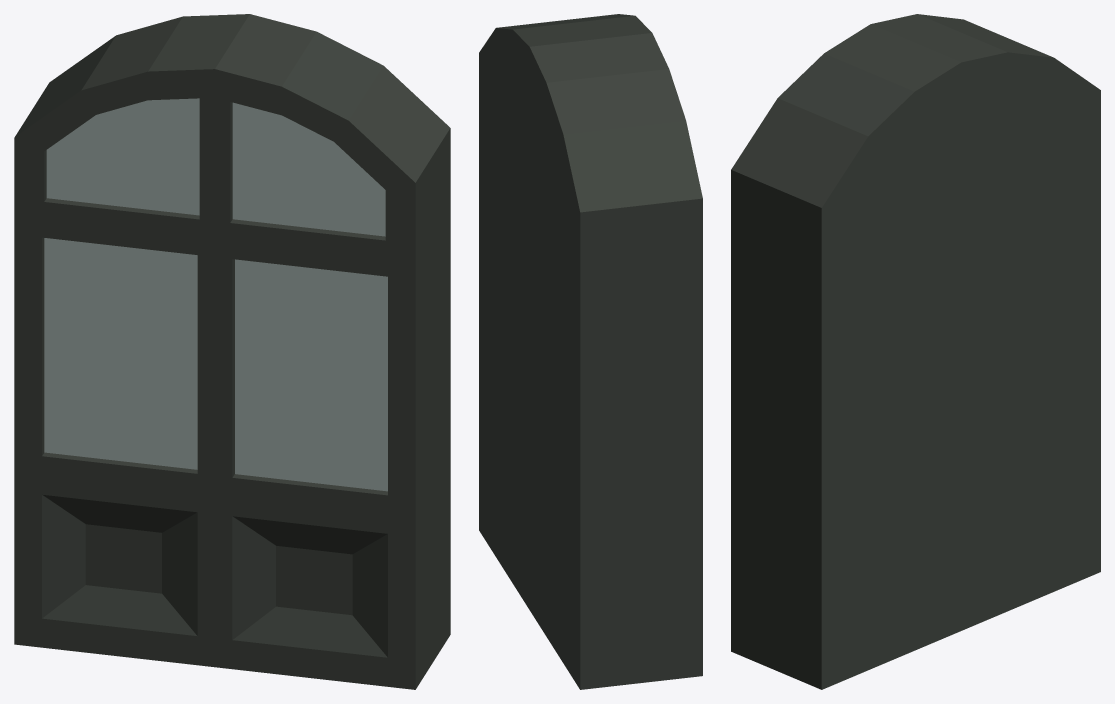
File: fbx_restaurant_ex_door.fbx
3 renders of one model, left to right at view 1: azimuth 30°, elevation 25°; view 2: azimuth 150°, elevation 25°; view 3: azimuth 270°, elevation 25°, orthographic. The views are drawn at different scales.
Visible parts, largest first — view 1: fbx_restaurant_ex_door; view 2: fbx_restaurant_ex_door; view 3: fbx_restaurant_ex_door.
Part boxes in pixels (<box>): fbx_restaurant_ex_door: <box>14,14,450,689</box>; fbx_restaurant_ex_door: <box>479,14,702,689</box>; fbx_restaurant_ex_door: <box>731,14,1100,689</box>.
Size of the model in its own units: 0.6568 by 1.11 by 0.6568.
2 materials, 1 textured.
